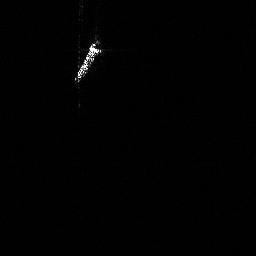ship: (70, 36, 106, 86)
